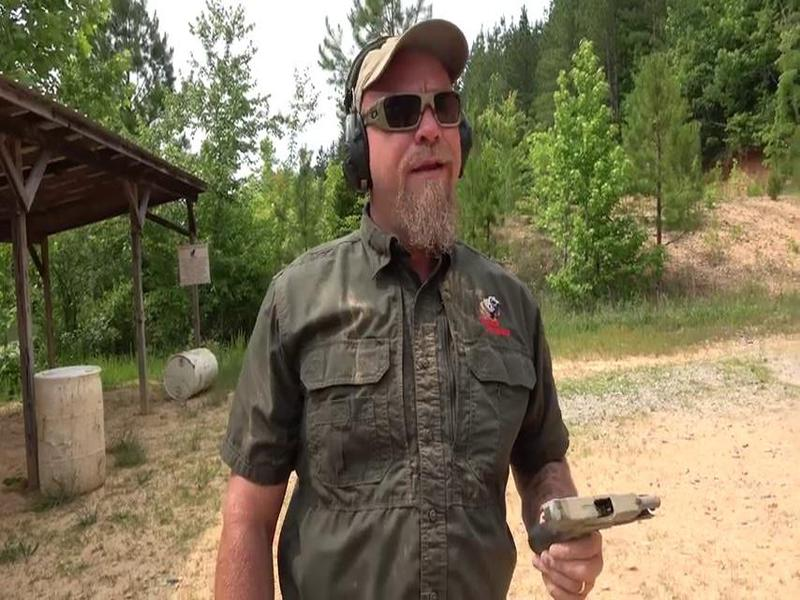Pistola: (506, 459, 675, 585)
